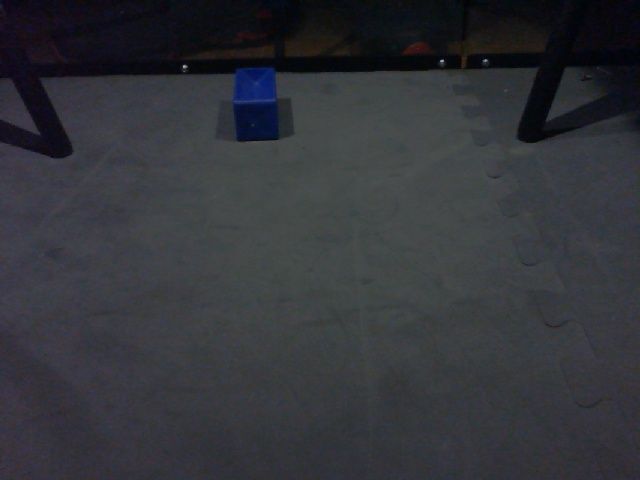BlueSample: (230, 65, 280, 143)
